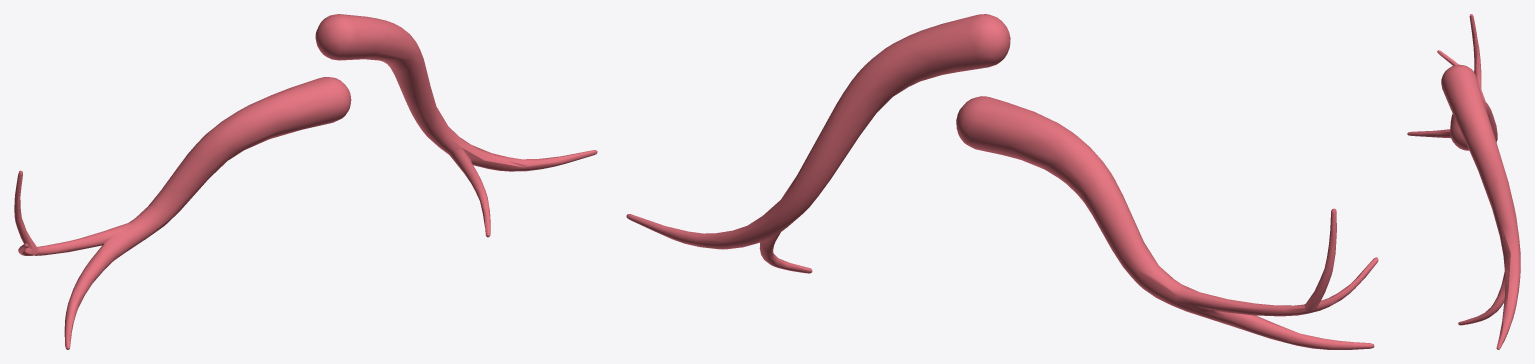
The model's file is fma22562_fj2167.glb.
3 views of the same model, side by side, from view 1: azimuth 30°, elevation 25°; view 2: azimuth 150°, elevation 25°; view 3: azimuth 270°, elevation 25° (orthographic). The views are drawn at different scales.
Visible parts, largest first — view 1: FMA22562_FJ2167; view 2: FMA22562_FJ2167; view 3: FMA22562_FJ2167.
Part boxes in pixels (box(x1,y1,x2,y2)): FMA22562_FJ2167: box(14, 14, 597, 349); FMA22562_FJ2167: box(626, 14, 1378, 349); FMA22562_FJ2167: box(1407, 14, 1520, 349).
Size of the model in its own units: 0.0672 by 0.0271 by 0.0138.
